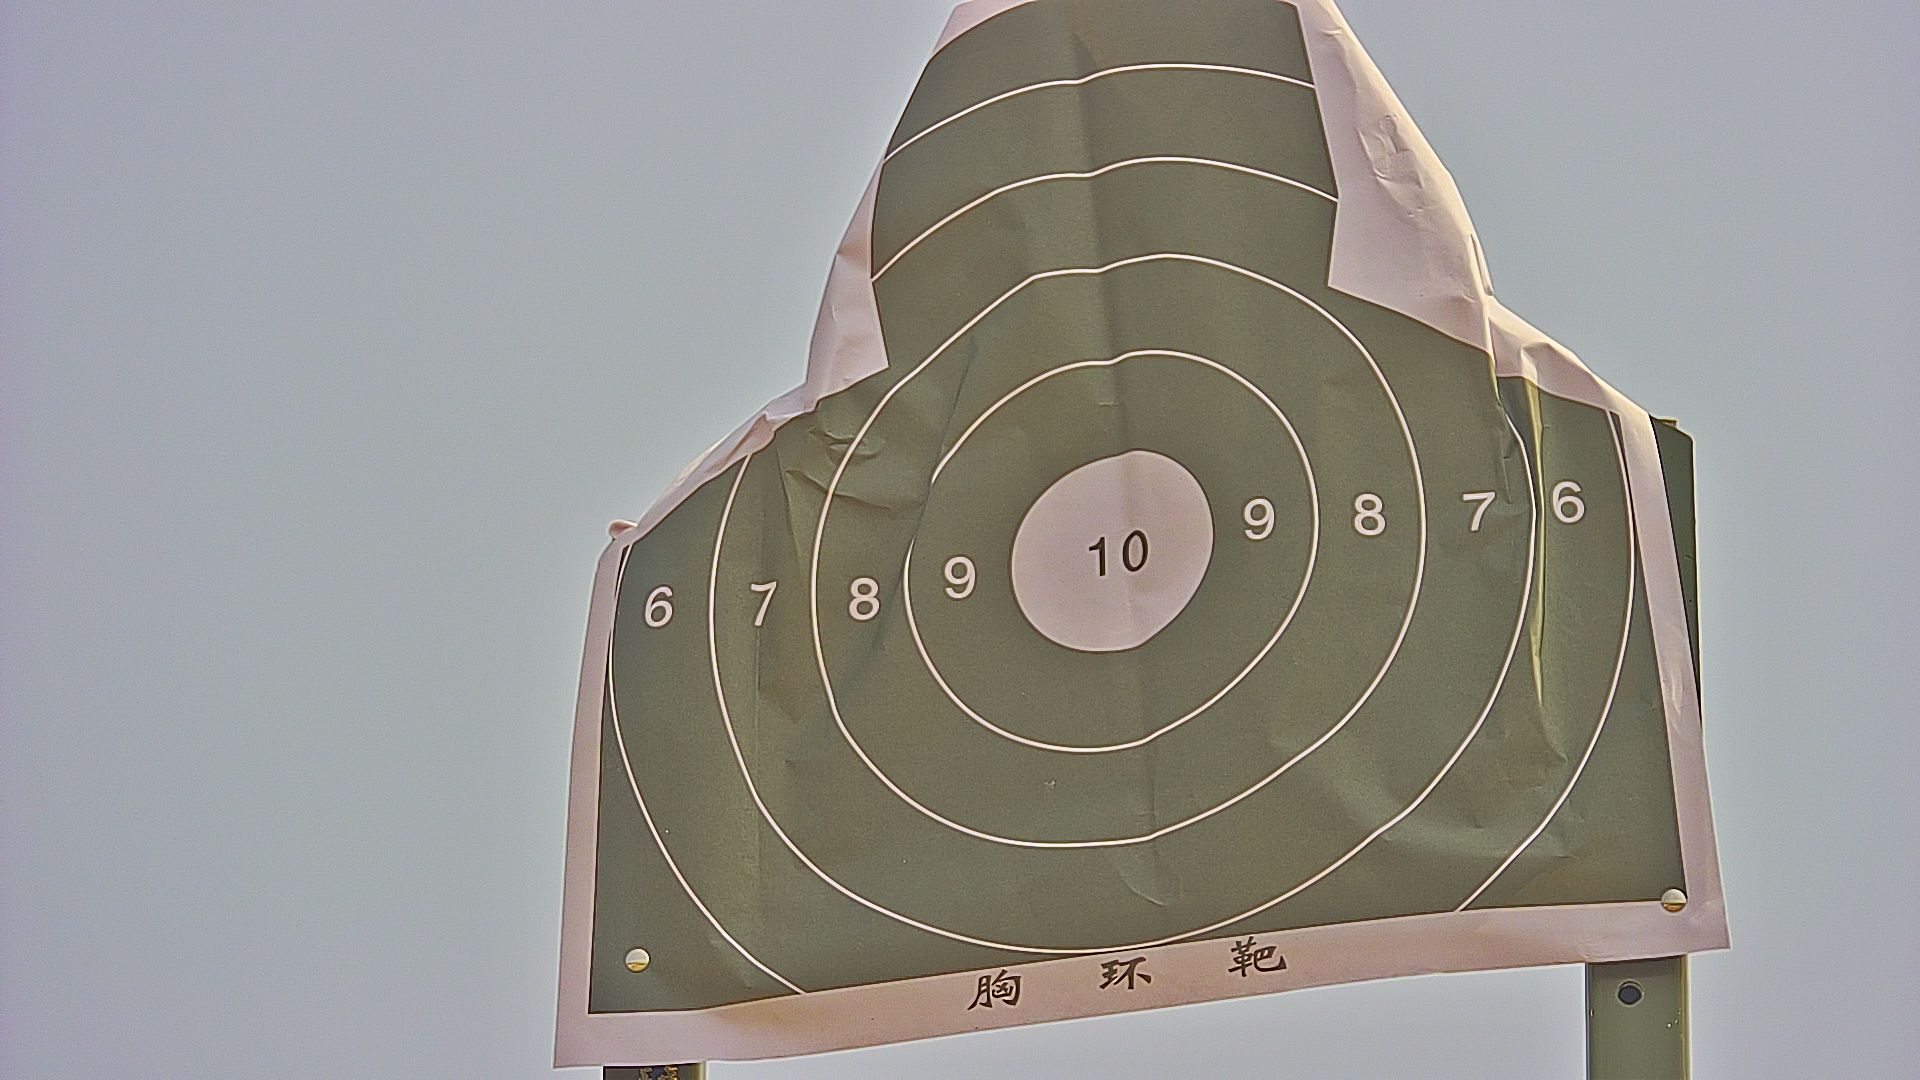target: (588, 15, 1687, 1019)
ten: (1006, 454, 1217, 658)
